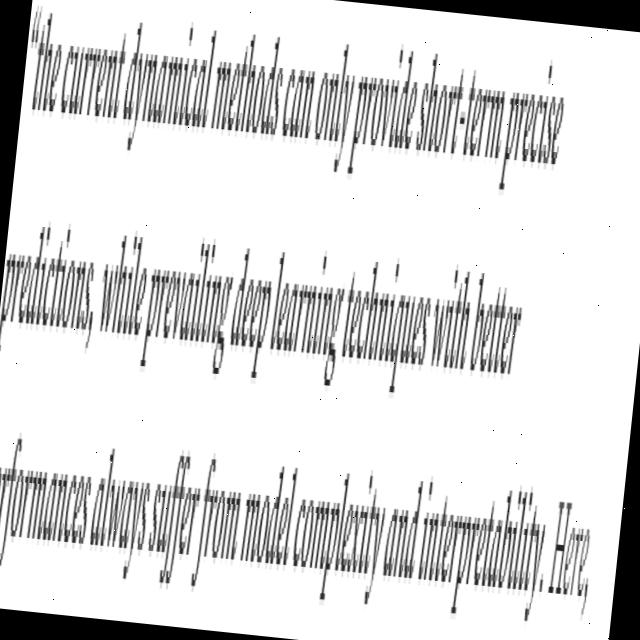word: (411, 459, 557, 631), (113, 0, 227, 184), (136, 205, 242, 400), (335, 226, 441, 404), (284, 459, 392, 620), (0, 224, 101, 392), (261, 216, 352, 402), (0, 423, 97, 596), (411, 43, 513, 197), (204, 9, 291, 174), (140, 418, 208, 615), (344, 44, 424, 202), (83, 428, 160, 583), (497, 46, 570, 207), (55, 6, 132, 157), (541, 466, 607, 633), (234, 447, 303, 597), (464, 243, 531, 393), (223, 225, 281, 391), (190, 439, 251, 585), (93, 214, 153, 360), (309, 33, 362, 182), (424, 260, 479, 399), (19, 0, 71, 147), (379, 459, 428, 601), (277, 43, 323, 157)
